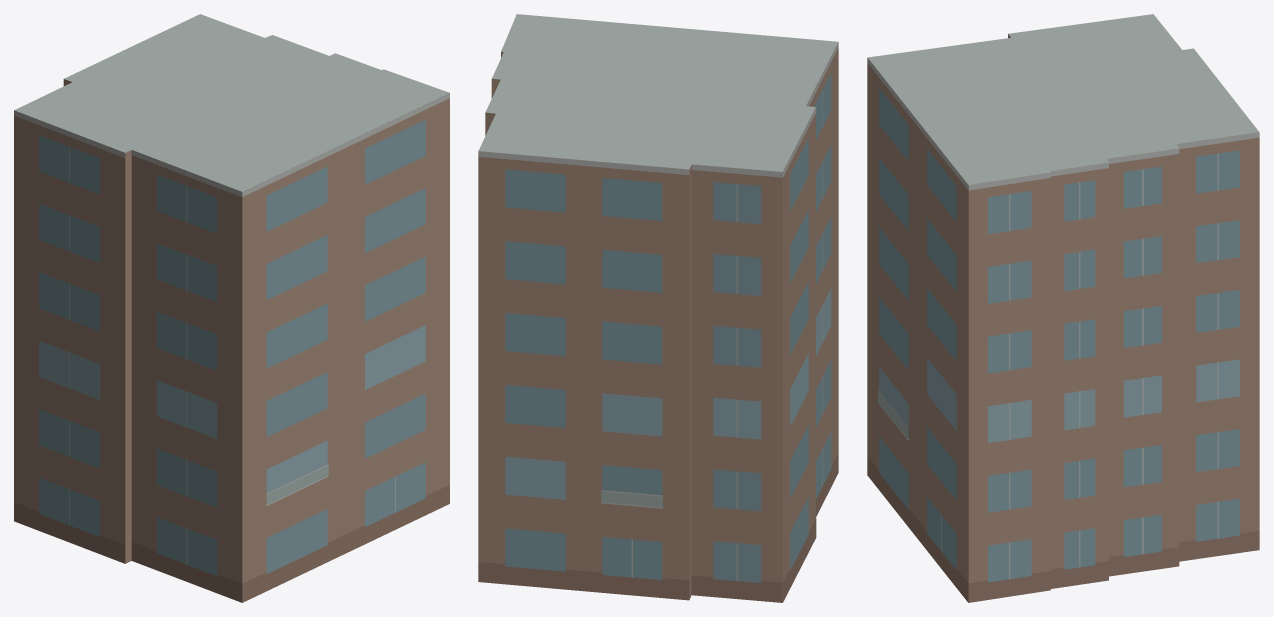
The model's file is survey-upis-32719892.glb.
The picture shows the model from 3 angles, left to right: view 1: azimuth 30°, elevation 25°; view 2: azimuth 150°, elevation 25°; view 3: azimuth 270°, elevation 25°; orthographic projection. The views are drawn at different scales.
Visible parts, largest first — view 1: survey-upis-32719892.tmp; view 2: survey-upis-32719892.tmp; view 3: survey-upis-32719892.tmp.
Boxes of the visible parts, box(x1,y1,x2,y2) form: survey-upis-32719892.tmp: box(14, 14, 449, 602); survey-upis-32719892.tmp: box(478, 14, 838, 602); survey-upis-32719892.tmp: box(867, 14, 1259, 602).
Bounding box in the file's own units: 16.43 × 18.7 × 15.91.
